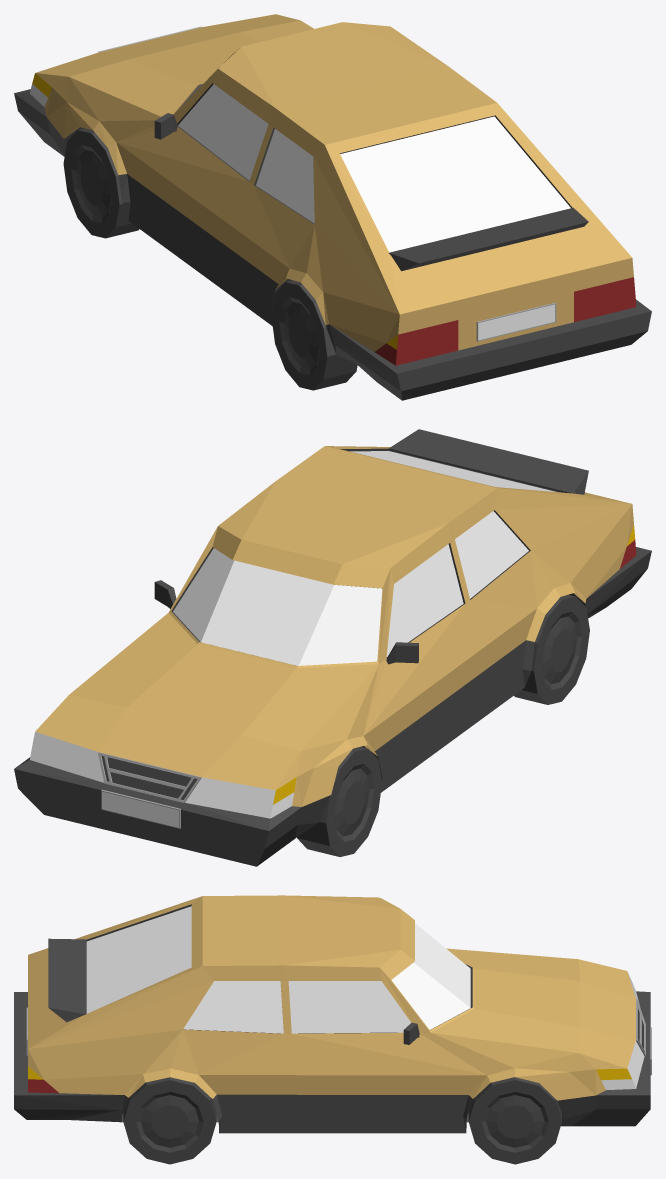
Rendered from car.fbx.
3 renders of one model, top to bottom at view 1: azimuth 30°, elevation 25°; view 2: azimuth 150°, elevation 25°; view 3: azimuth 270°, elevation 25°, orthographic. The views are drawn at different scales.
Parts seen in each view (by area): view 1: Car; view 2: Car; view 3: Car.
Boxes of the visible parts, left/top/right/bottom form: Car: left=14, top=14, right=651, bottom=400; Car: left=14, top=429, right=651, bottom=866; Car: left=14, top=895, right=651, bottom=1164.
Bounding box in the file's own units: 68.74 × 53.83 × 171.
